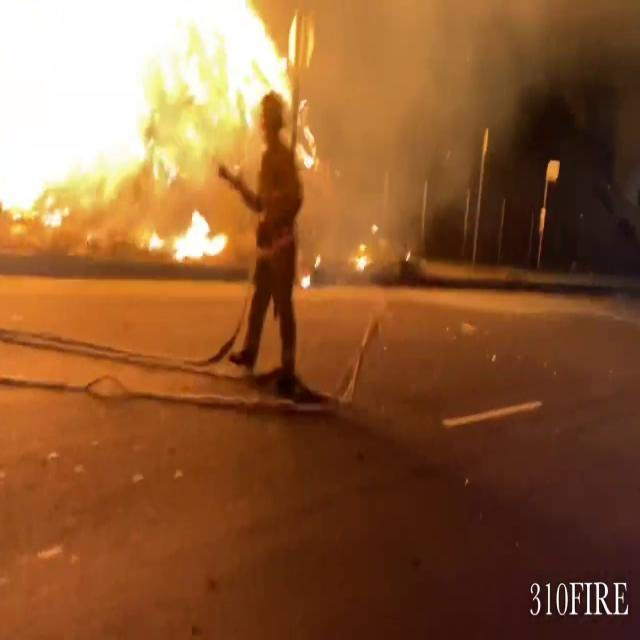Fire: (0, 0, 318, 246), (146, 202, 238, 270)
Smoke: (294, 0, 640, 162)
